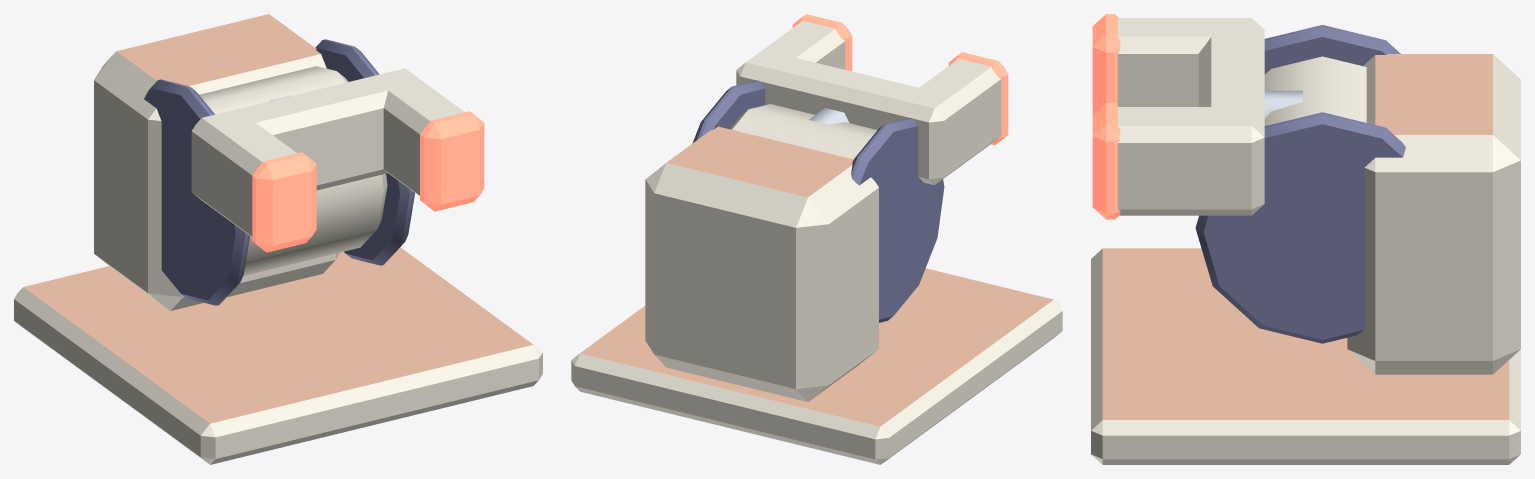
File: R4X_MagneticGrapple_LOD1.fbx
The picture shows the model from 3 angles, left to right: view 1: azimuth 30°, elevation 25°; view 2: azimuth 150°, elevation 25°; view 3: azimuth 270°, elevation 25°; orthographic projection. The views are drawn at different scales.
Visible parts, largest first — view 1: R4X_MagneticGrapple_LOD1; view 2: R4X_MagneticGrapple_LOD1; view 3: R4X_MagneticGrapple_LOD1.
Part boxes in pixels (bbox=[...]): R4X_MagneticGrapple_LOD1: bbox=[14, 14, 542, 464]; R4X_MagneticGrapple_LOD1: bbox=[571, 14, 1062, 464]; R4X_MagneticGrapple_LOD1: bbox=[1091, 14, 1520, 464].
Bounding box in the file's own units: 0.52 × 0.414 × 0.52.
